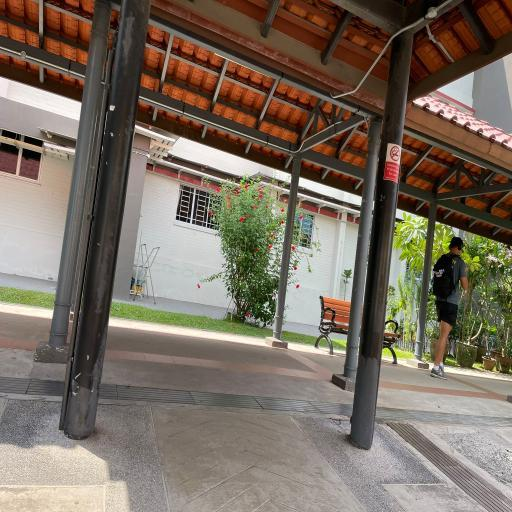person_right: (430, 234, 470, 378)
